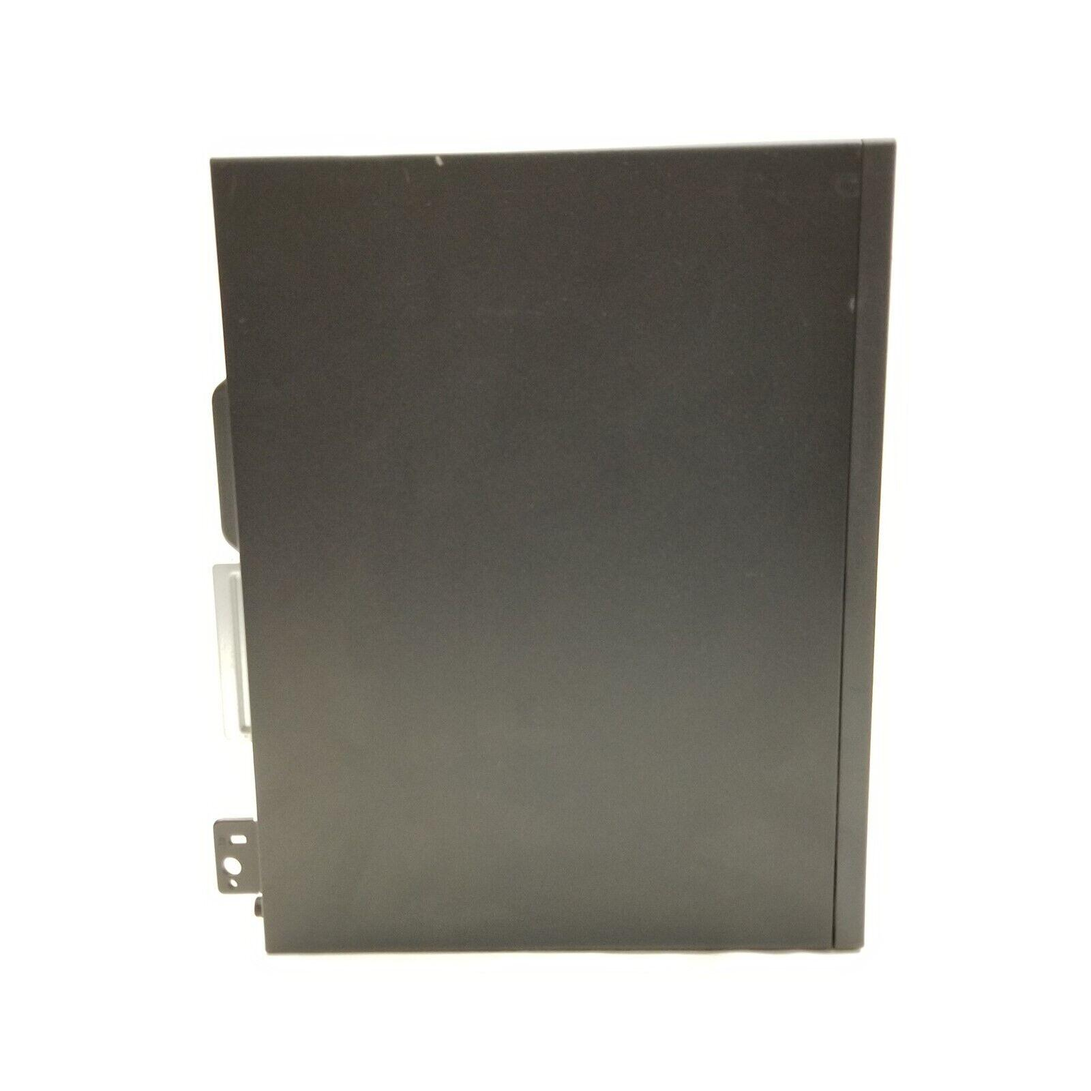DESKTOP PC: (184, 131, 910, 974)
